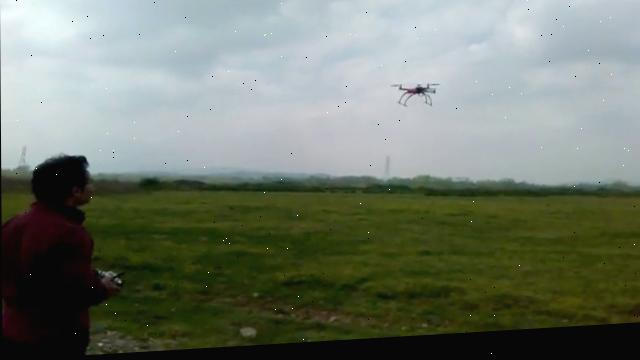drone: (388, 82, 441, 115)
